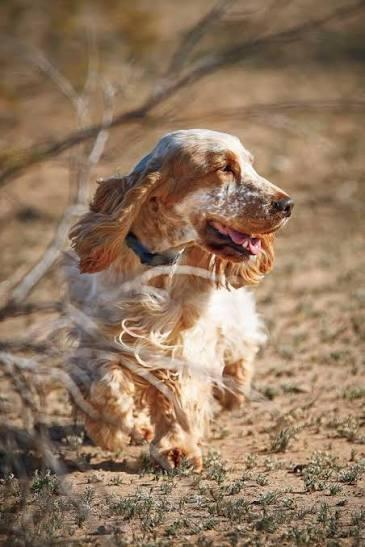adult_dog: (54, 125, 295, 473)
